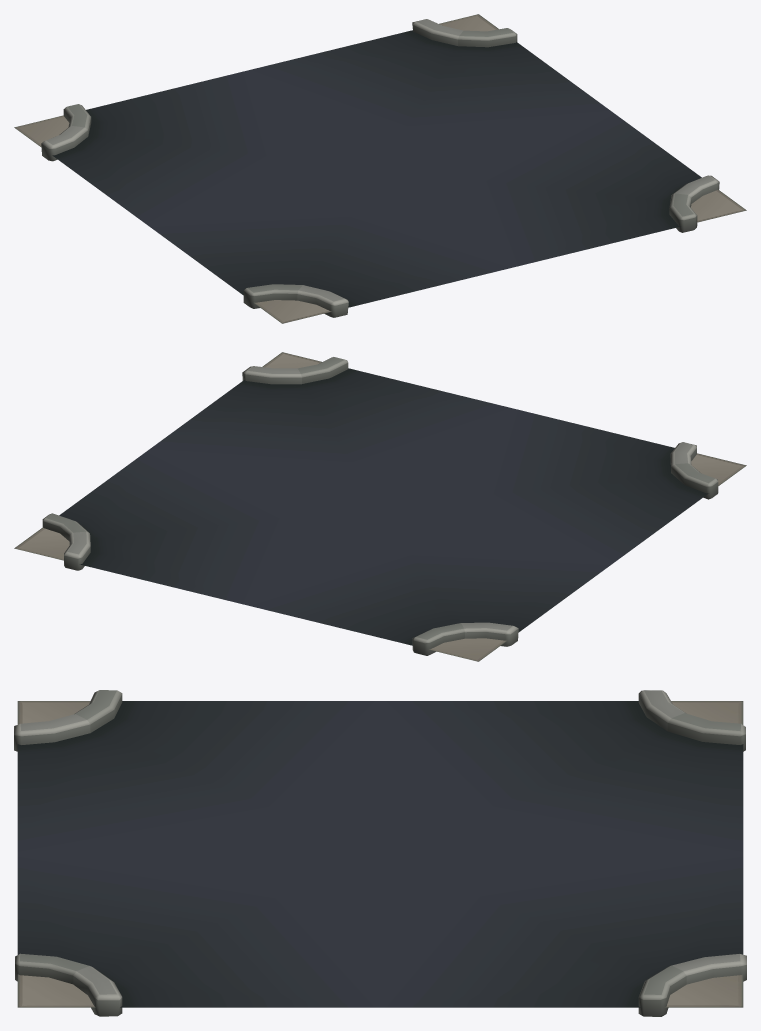
File: cross.glb
The picture shows the model from 3 angles, top to bottom: view 1: azimuth 30°, elevation 25°; view 2: azimuth 150°, elevation 25°; view 3: azimuth 270°, elevation 25°; orthographic projection. The views are drawn at different scales.
Parts seen in each view (by area): view 1: road_section_cross.001, road_section_cross, road_section_cross_sidewalk; view 2: road_section_cross.001, road_section_cross, road_section_cross_sidewalk; view 3: road_section_cross.001, road_section_cross, road_section_cross_sidewalk.
Part boxes in pixels (<box>): road_section_cross.001: <box>52,30,701,307</box>; road_section_cross: <box>41,19,719,317</box>; road_section_cross_sidewalk: <box>14,14,746,323</box>; road_section_cross.001: <box>59,368,708,645</box>; road_section_cross: <box>42,357,718,655</box>; road_section_cross_sidewalk: <box>14,352,746,661</box>; road_section_cross.001: <box>17,701,743,1007</box>; road_section_cross: <box>14,690,746,1016</box>; road_section_cross_sidewalk: <box>17,701,743,1007</box>.
Bounding box in the file's own units: 16.17 × 0.536 × 16.17.
3 materials, 3 textured.
